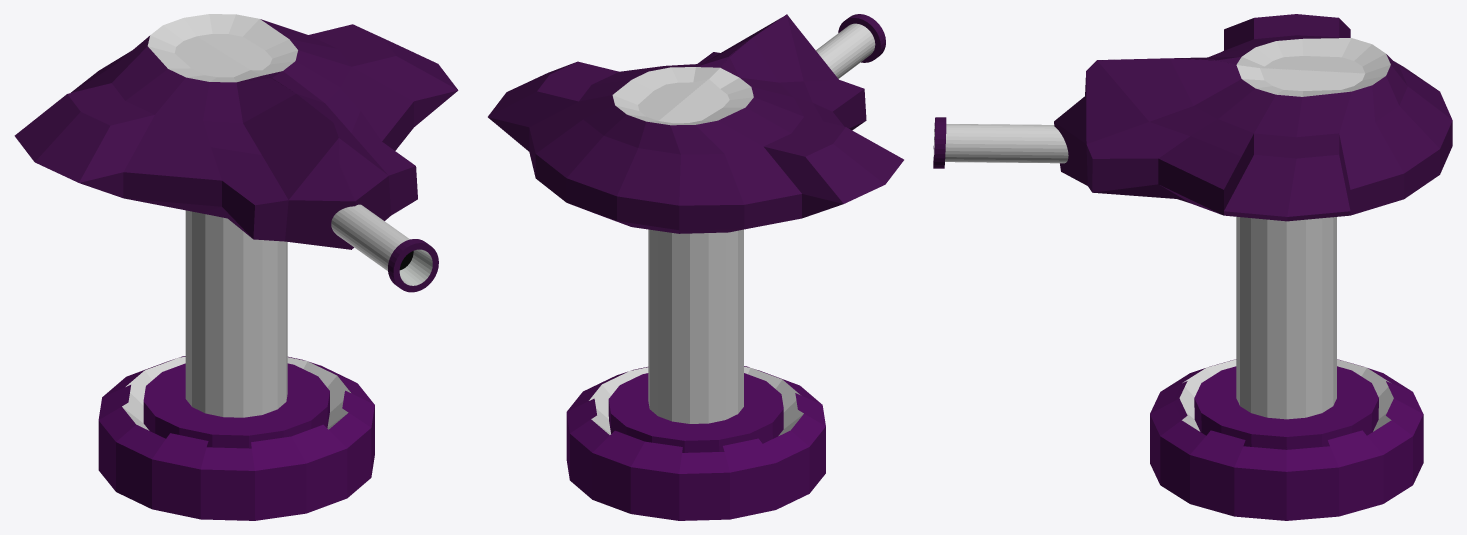
The picture shows the model from 3 angles, left to right: view 1: azimuth 30°, elevation 25°; view 2: azimuth 150°, elevation 25°; view 3: azimuth 270°, elevation 25°; orthographic projection. The views are drawn at different scales.
Visible parts, largest first — view 1: Circle.001, Circle; view 2: Circle.001, Circle; view 3: Circle.001, Circle.
Boxes of the visible parts, x1=… form: Circle.001: x1=14, y1=14, x2=458, y2=292; Circle: x1=98, y1=210, x2=374, y2=520; Circle.001: x1=488, y1=14, x2=903, y2=233; Circle: x1=566, y1=229, x2=825, y2=520; Circle.001: x1=933, y1=14, x2=1452, y2=221; Circle: x1=1150, y1=216, x2=1423, y2=520.
Bounding box in the file's own units: 334 × 327 × 380.
